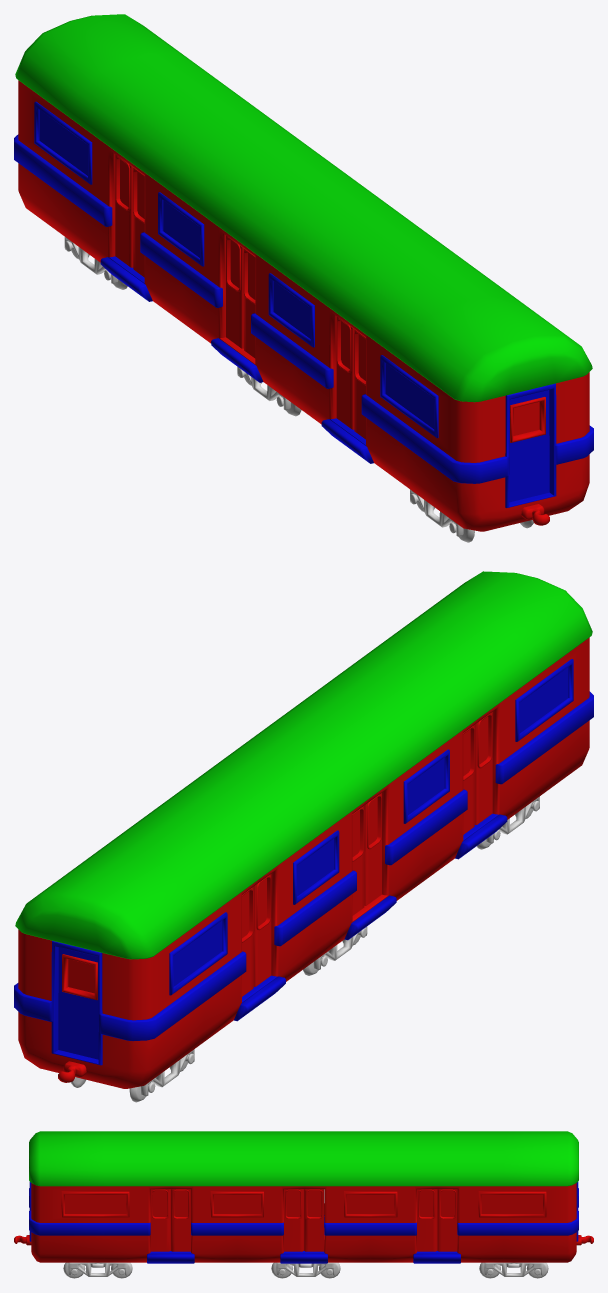
The model's file is train_low.fbx.
3 views of the same model, one above another, from view 1: azimuth 30°, elevation 25°; view 2: azimuth 150°, elevation 25°; view 3: azimuth 270°, elevation 25° (orthographic). The views are drawn at different scales.
Parts seen in each view (by area): view 1: train_low; view 2: train_low; view 3: train_low.
Boxes of the visible parts, bbox=[...] form: train_low: bbox=[14, 14, 593, 542]; train_low: bbox=[14, 571, 593, 1102]; train_low: bbox=[14, 1131, 593, 1278].
Bounding box in the file's own units: 298 × 416 × 1681.
